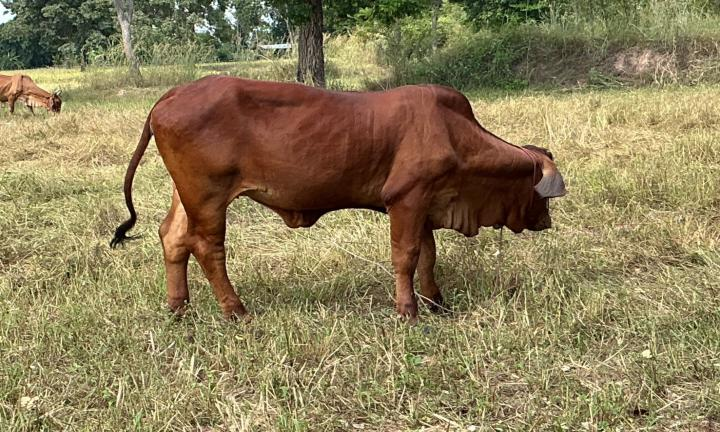Brahman: (111, 75, 566, 322), (0, 74, 61, 115)
